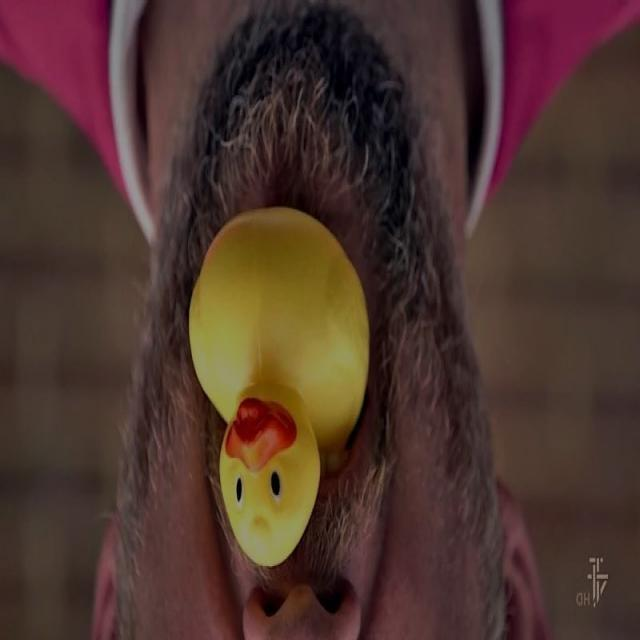rubber-duck: (188, 206, 367, 564)
